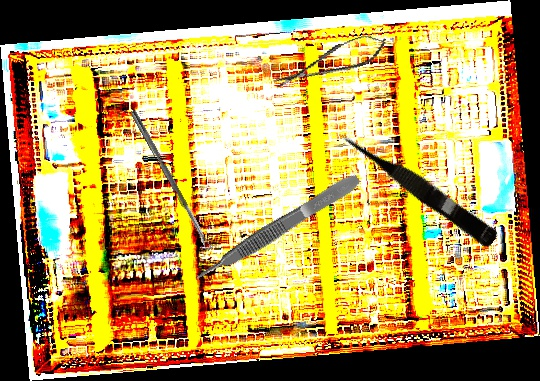Micro Scissor: (334, 121, 503, 250), (268, 29, 392, 95)
Surgical Spoon: (128, 109, 213, 252)
Tissue Forceps: (190, 170, 364, 286)
